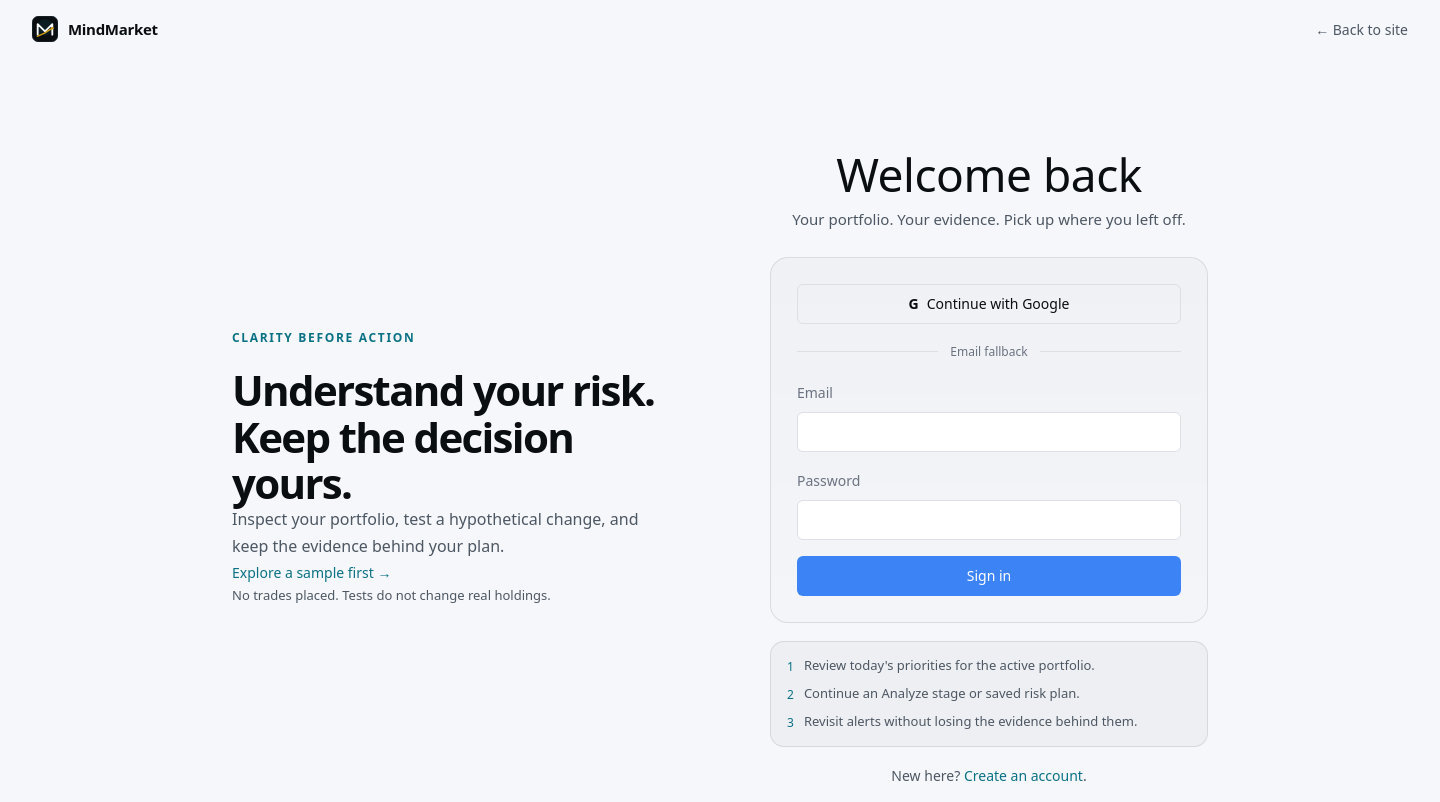
Scenario: LoginPage › surfaces the error message when signIn rejects
Type "x@y.com" into the field labelled "Email". click: (989, 432)
box: [797, 412, 1181, 452]
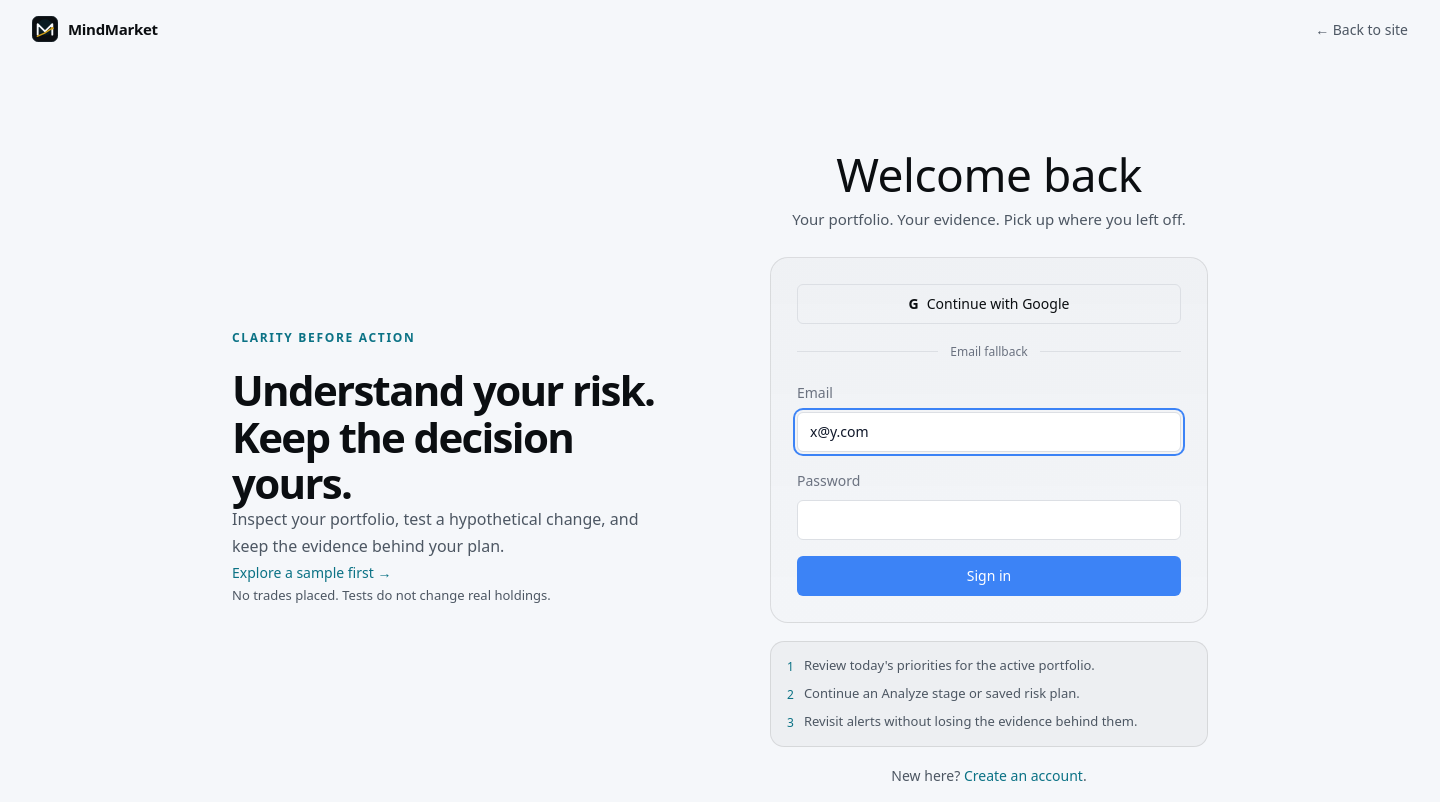
Type "wrong" into the password field labelled "Password". click: (989, 520)
box: [797, 500, 1181, 540]
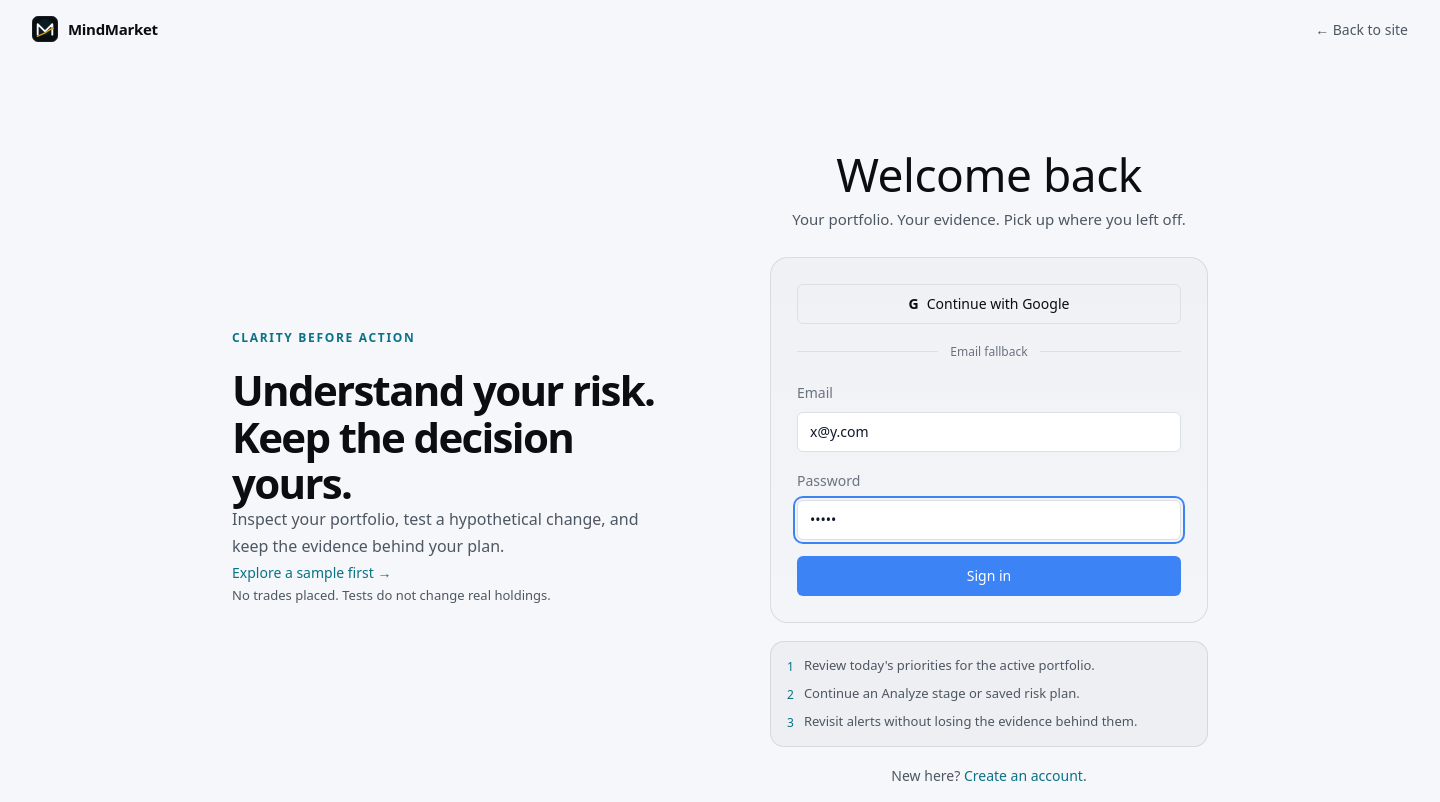
Click the button "Sign in". click: (989, 576)
box: [797, 556, 1181, 596]
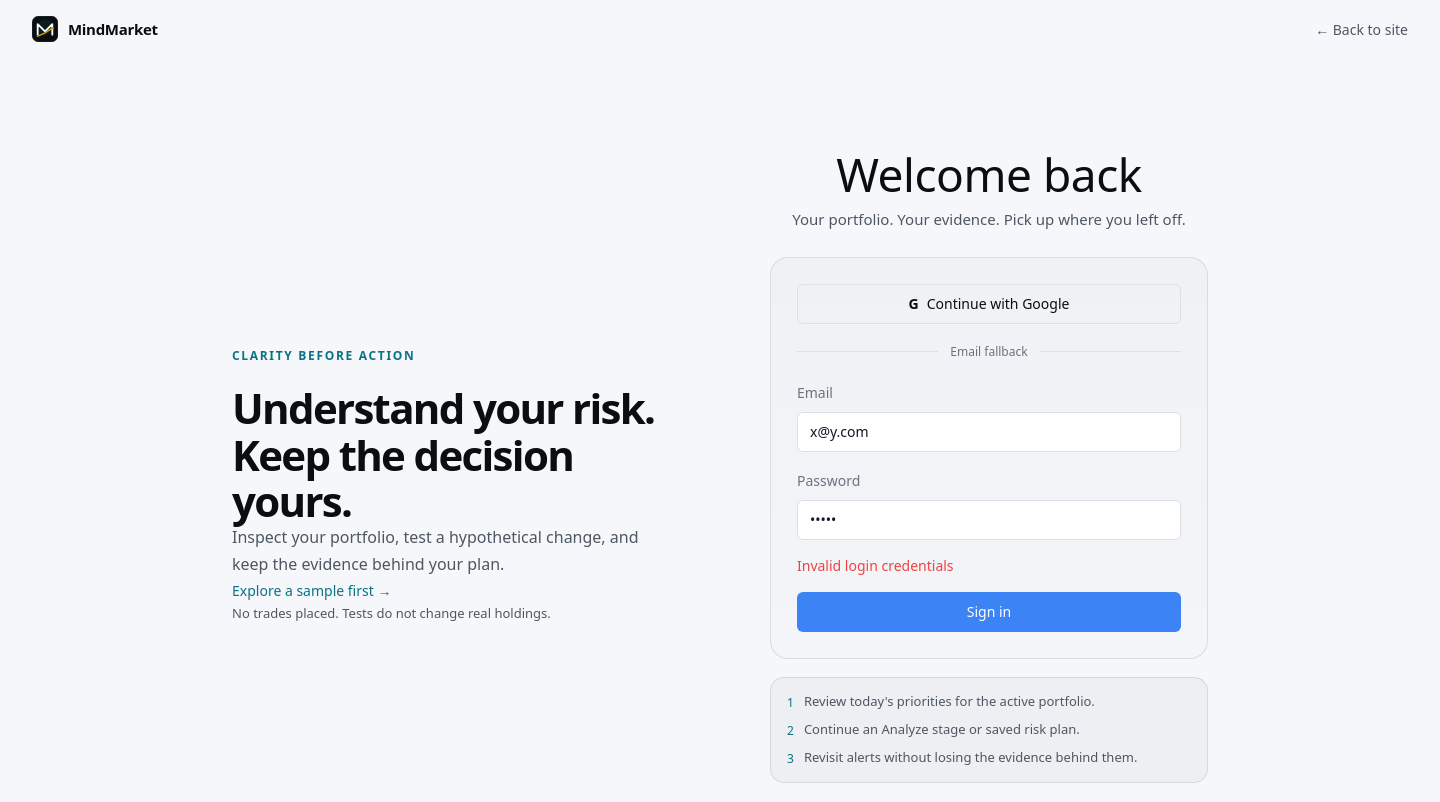
Result: the message reads "Invalid login credentials" at [797, 556, 954, 575]
